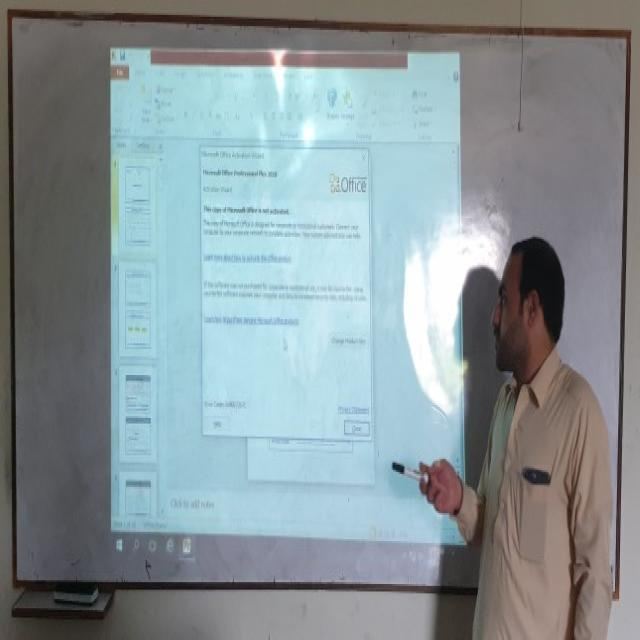Instructor: (491, 219, 613, 640)
Slide: (105, 43, 469, 558)
White-board: (12, 11, 632, 599)
